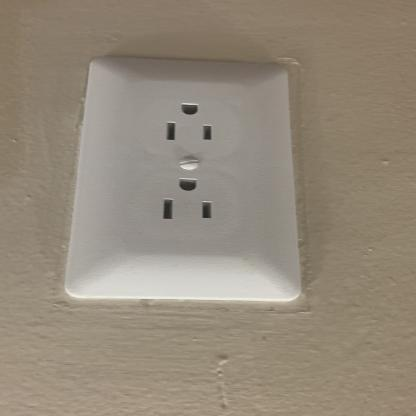OUTLET: (66, 54, 300, 304)
